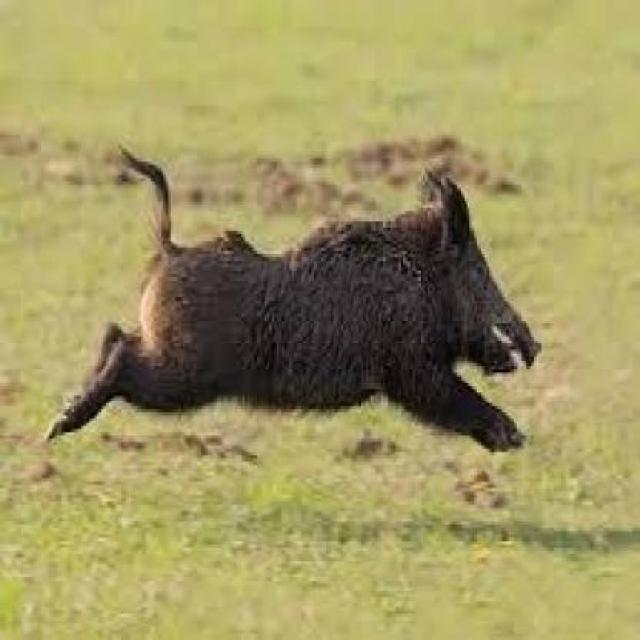wildboar: (37, 137, 546, 472)
